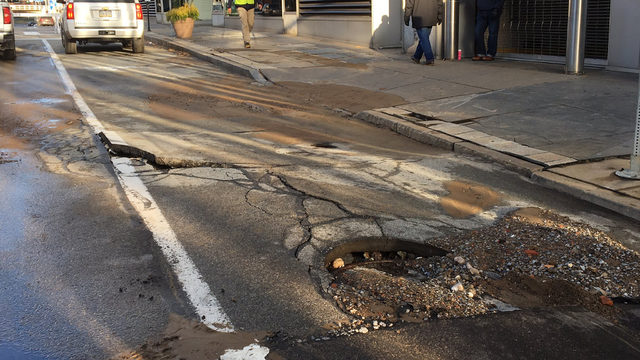roadCrash: (305, 238, 526, 325), (56, 126, 187, 190)
